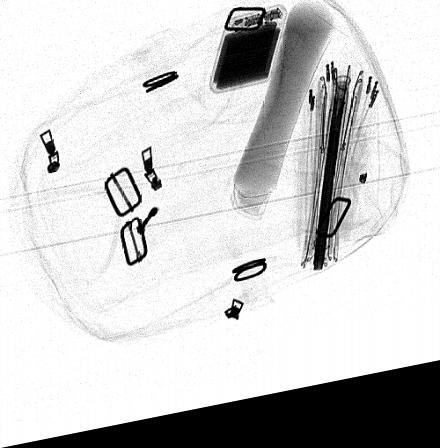Powerbank: (208, 15, 288, 103)
